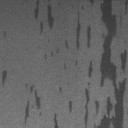red iron: (84, 0, 126, 128), (64, 10, 91, 50), (34, 0, 54, 34), (24, 82, 41, 122), (2, 70, 7, 84), (54, 114, 59, 128), (124, 0, 128, 14), (68, 101, 72, 110), (75, 61, 78, 66), (59, 87, 62, 92)
